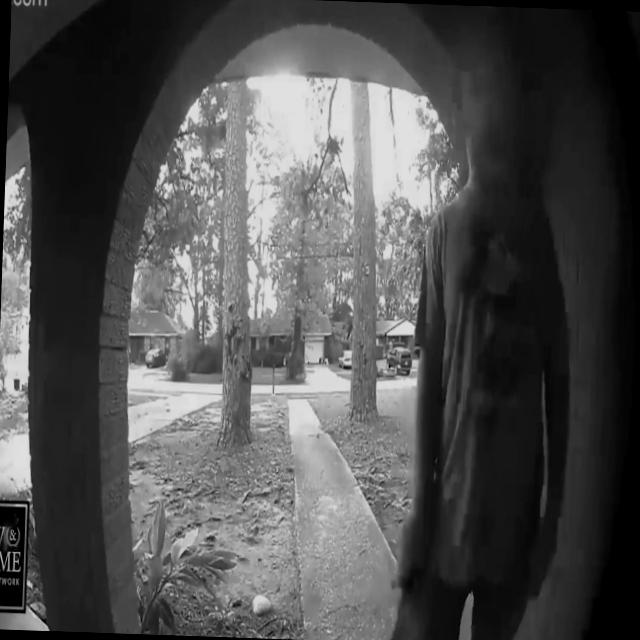weapon: (393, 18, 581, 640)
